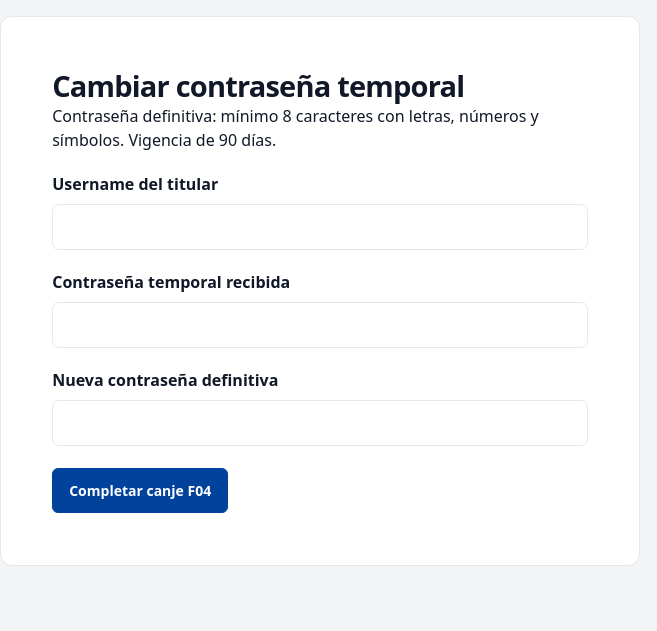
Test: exchanges the temporary credential with CSRF and clears the form
Type "nuevo" into the field labelled "Username del titular".
click(320, 227); type("nuevo")  # box top-left (52, 204), bottom-right (588, 250)
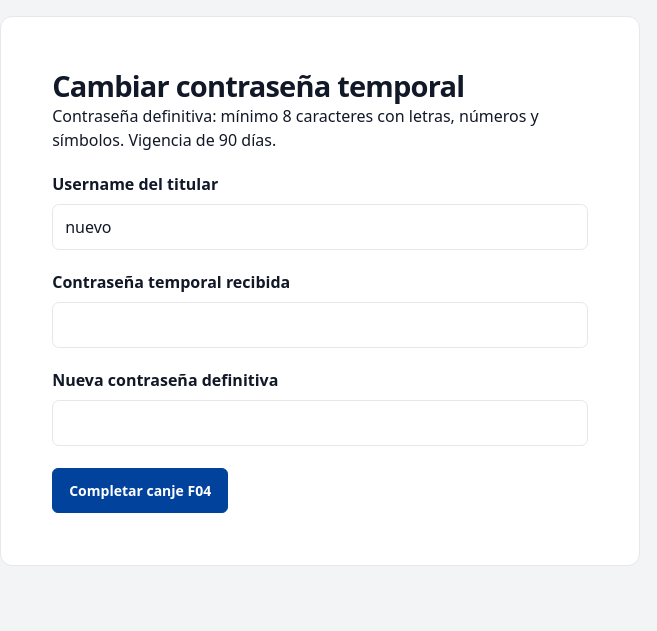
Type "temporal" into the password field labelled "Contraseña temporal recibida".
click(320, 325); type("temporal")  # box top-left (52, 302), bottom-right (588, 348)
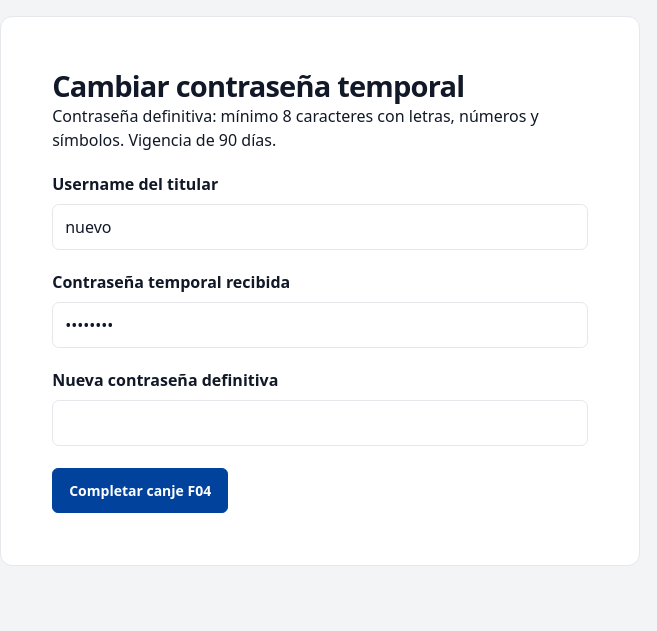
Type "Definitiva-46!" into the password field labelled "Nueva contraseña definitiva".
click(320, 423); type("Definitiva-46!")  # box top-left (52, 400), bottom-right (588, 446)
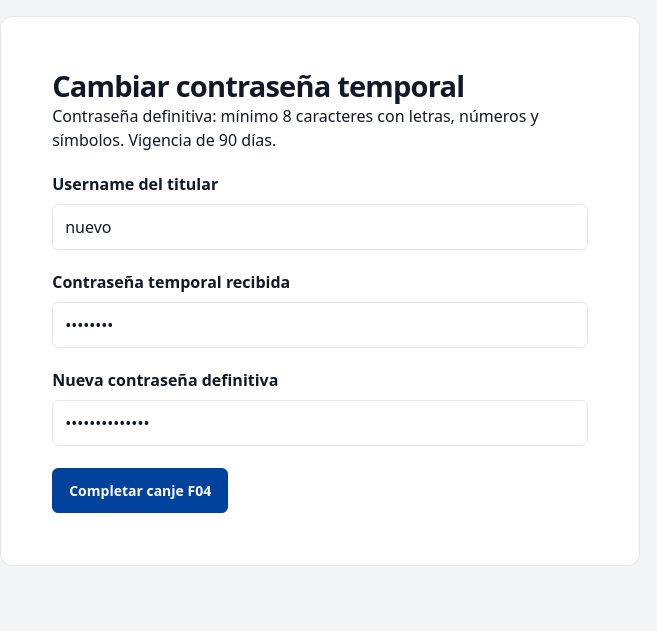
Click the button "Completar canje F04".
click(140, 491)  # box top-left (52, 468), bottom-right (228, 513)
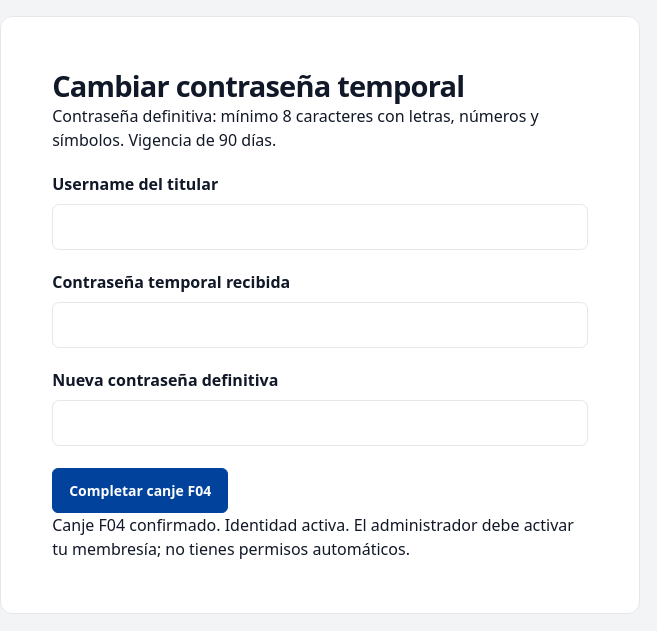
Expected: the text "Canje F04 confirmado" is shown, top-left (52, 514), bottom-right (574, 560)
Expected: the password field labelled "Contraseña temporal recibida" is empty, top-left (52, 302), bottom-right (588, 348)
